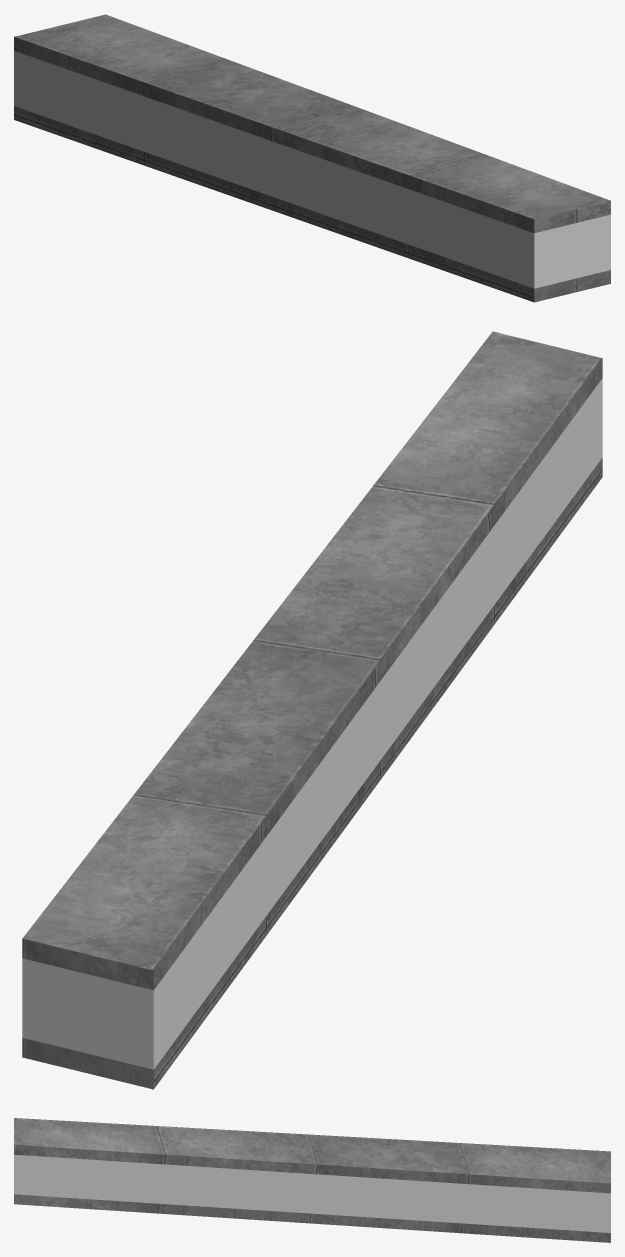
Rendered from 101RIronBridgeFixed.fbx.
The picture shows the model from 3 angles, top to bottom: view 1: azimuth 30°, elevation 25°; view 2: azimuth 150°, elevation 25°; view 3: azimuth 270°, elevation 25°; orthographic projection. The views are drawn at different scales.
Visible parts, largest first — view 1: Cube.054; view 2: Cube.054; view 3: Cube.054.
Boxes of the visible parts, x1,y1,x2,y2 form: Cube.054: (14, 14, 610, 302); Cube.054: (22, 331, 602, 1089); Cube.054: (14, 1118, 610, 1242).
Bounding box in the file's own units: 14.98 × 14.32 × 60.02.
